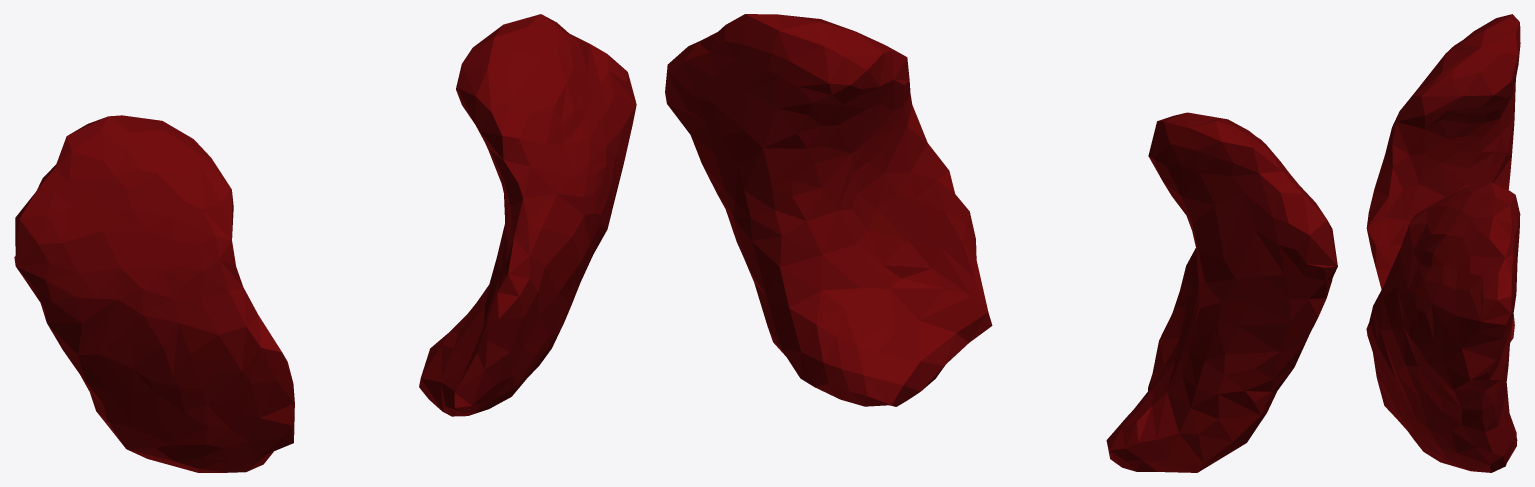
The model's file is 70-VAL(VO)+pal-ventral anterior thalamic nucleus, lateral part, ventralis oralis nucleus+pallidal territory of thalamus-('0.4980', '0.0000', '0.0157').obj.
The picture shows the model from 3 angles, left to right: view 1: azimuth 30°, elevation 25°; view 2: azimuth 150°, elevation 25°; view 3: azimuth 270°, elevation 25°; orthographic projection. The views are drawn at different scales.
Bounding box in the file's own units: 108 × 58.77 × 27.12.
